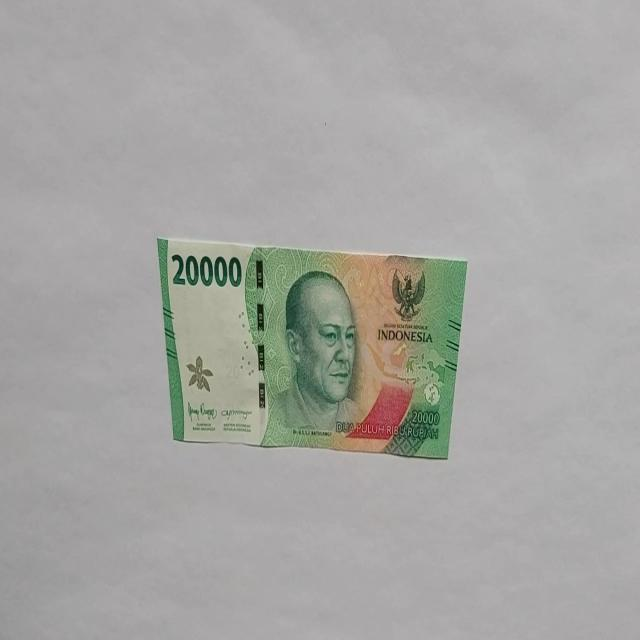dua puluh ribu rupiah: (156, 233, 468, 460), (260, 268, 366, 448)
